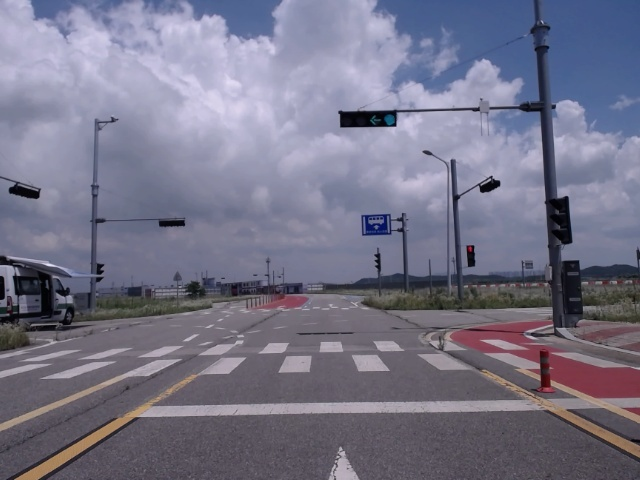all_green_4: (341, 111, 398, 126)
